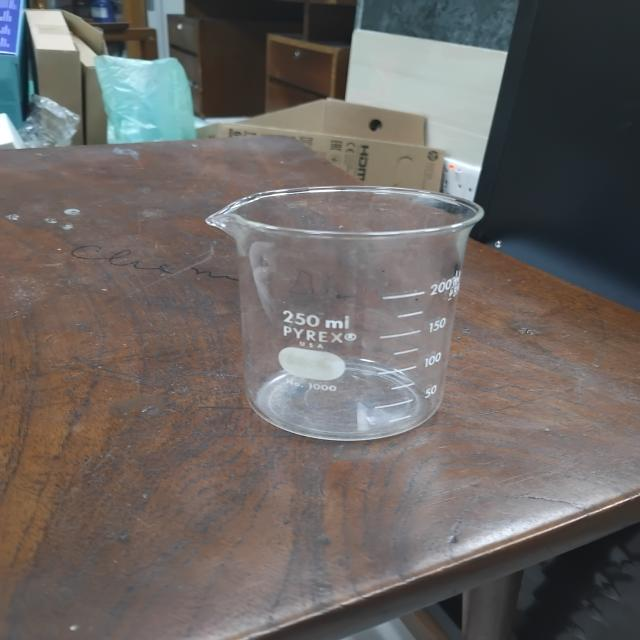Beaker: (167, 156, 502, 465)
